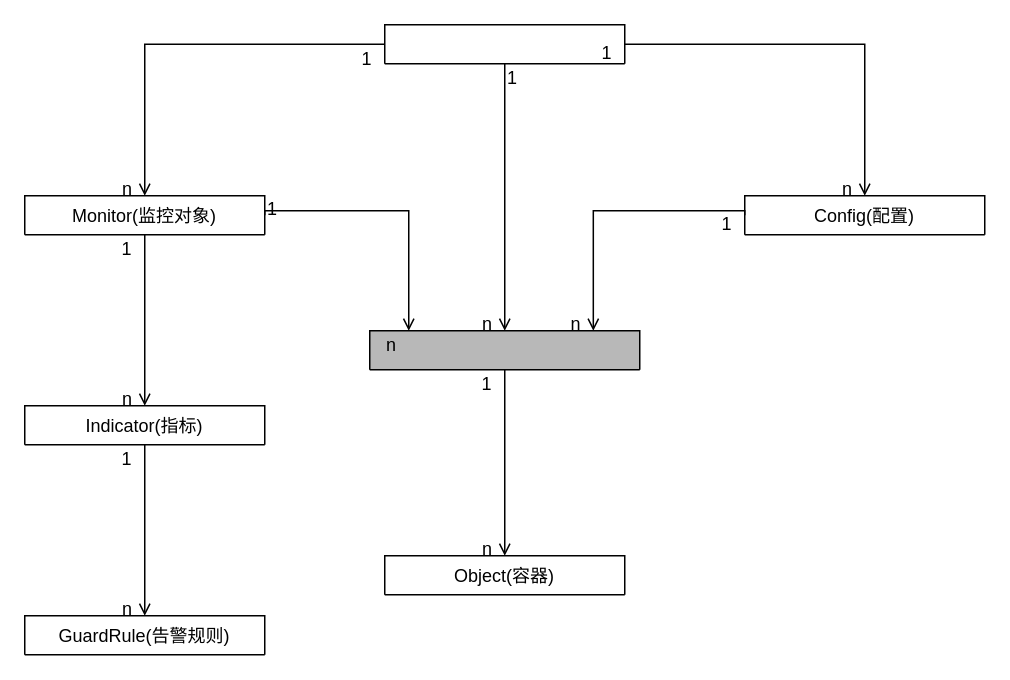
Some shapes in this 1010 by 680 pixel diagram are drawn without their labels. The box of each missing label's shape, as (x1, y1, x2, y2) in pixels:
Matcher(具体对象，四层模型): (368, 329, 640, 370)
Plan(计划): (383, 23, 625, 64)
